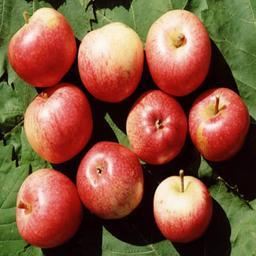apple: (6, 7, 76, 89), (145, 9, 211, 94), (22, 83, 92, 163), (75, 141, 143, 221), (16, 167, 81, 250), (78, 21, 143, 103), (188, 86, 249, 163), (125, 88, 186, 165), (151, 172, 213, 242)
